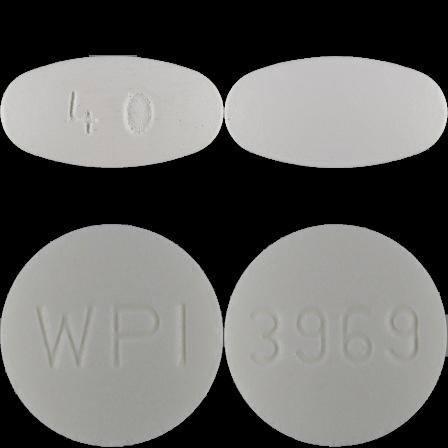51079-210: (0, 0, 224, 224)
